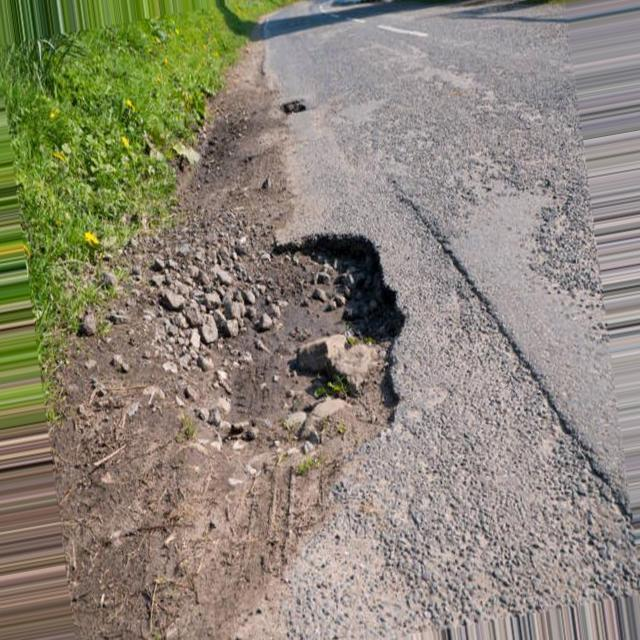Pinggir: (238, 223, 429, 511)
